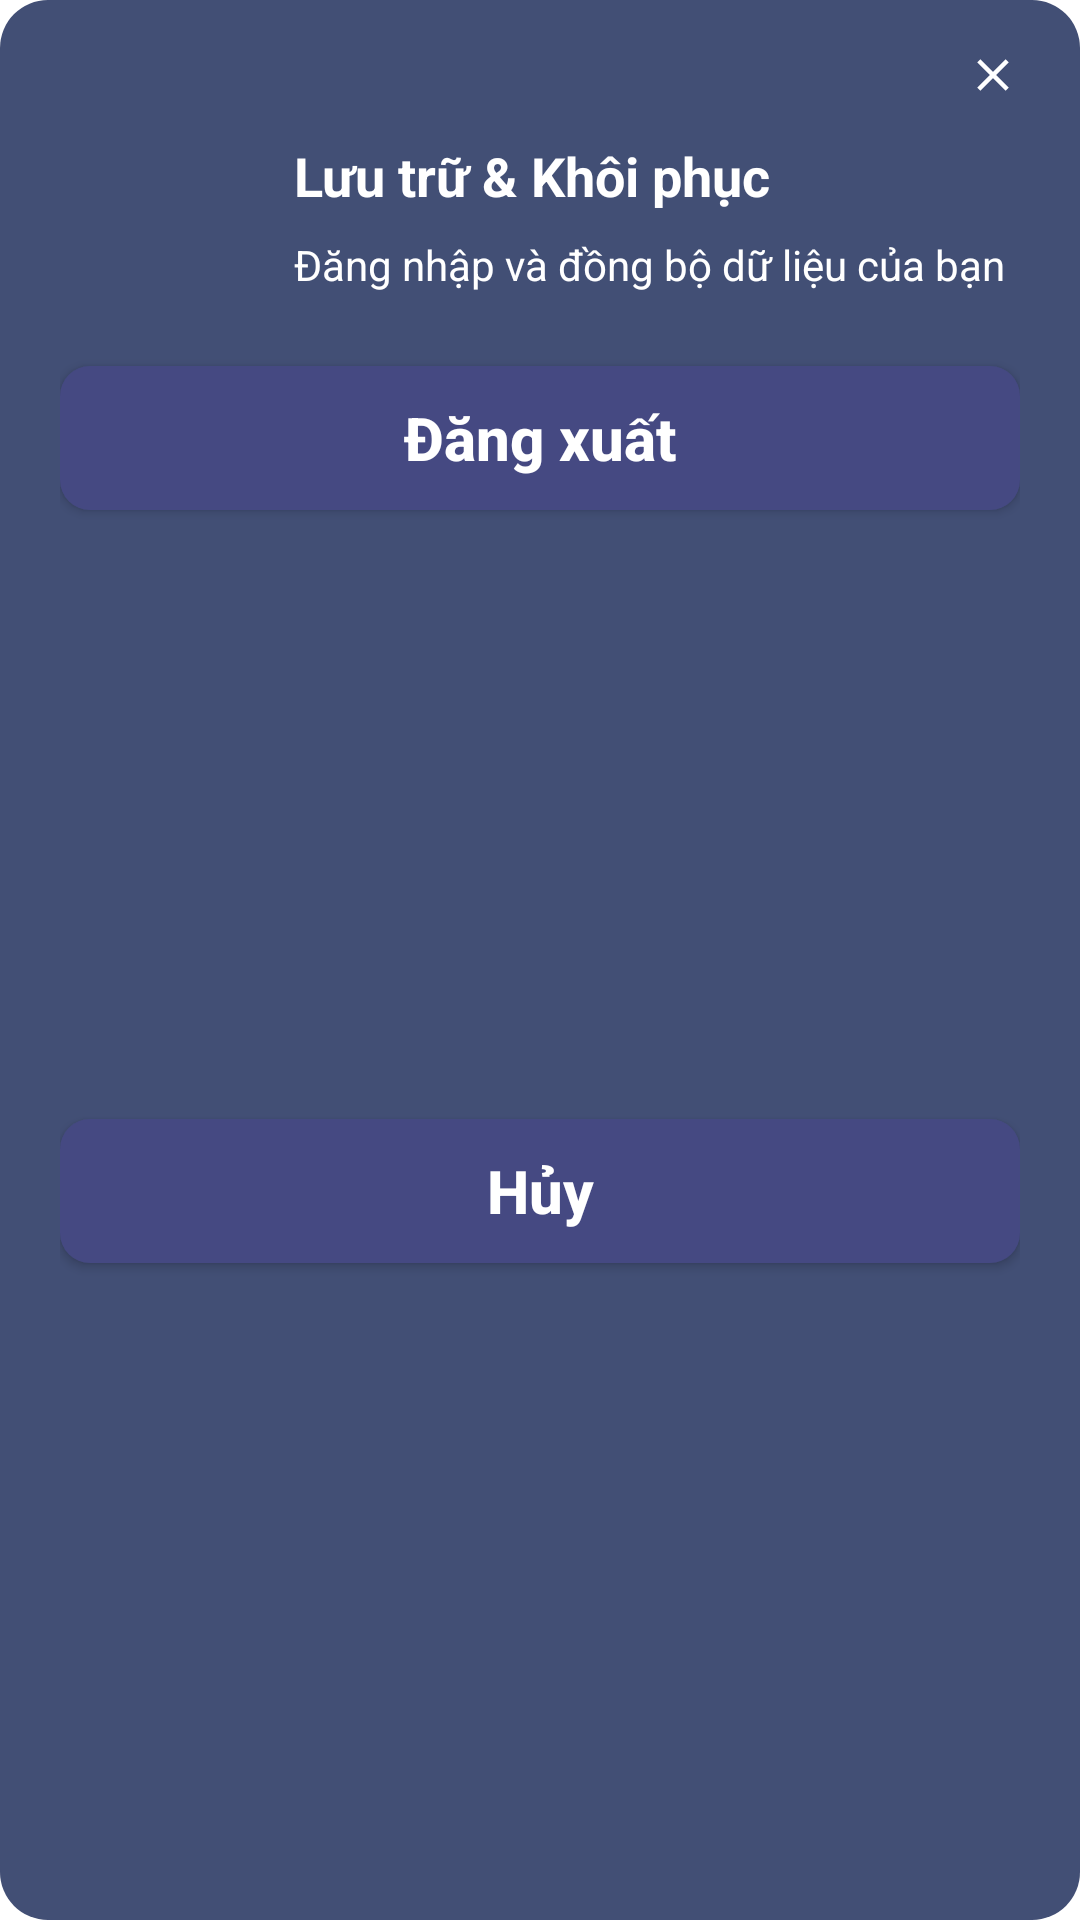

Screen size 1080×1920. Icon name, then its center in pixels as (x,y):
cancel: (993,75)
